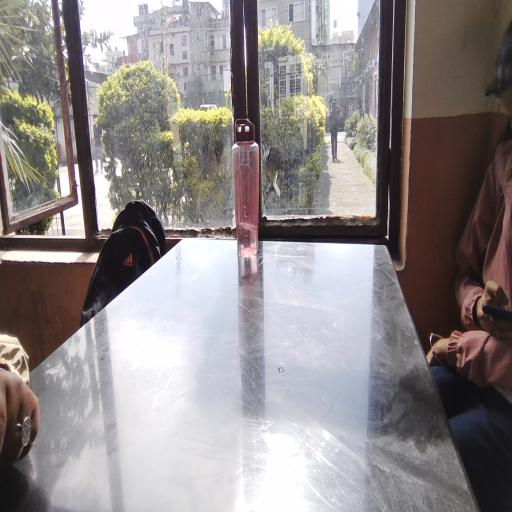Bottle: (222, 124, 271, 267)
